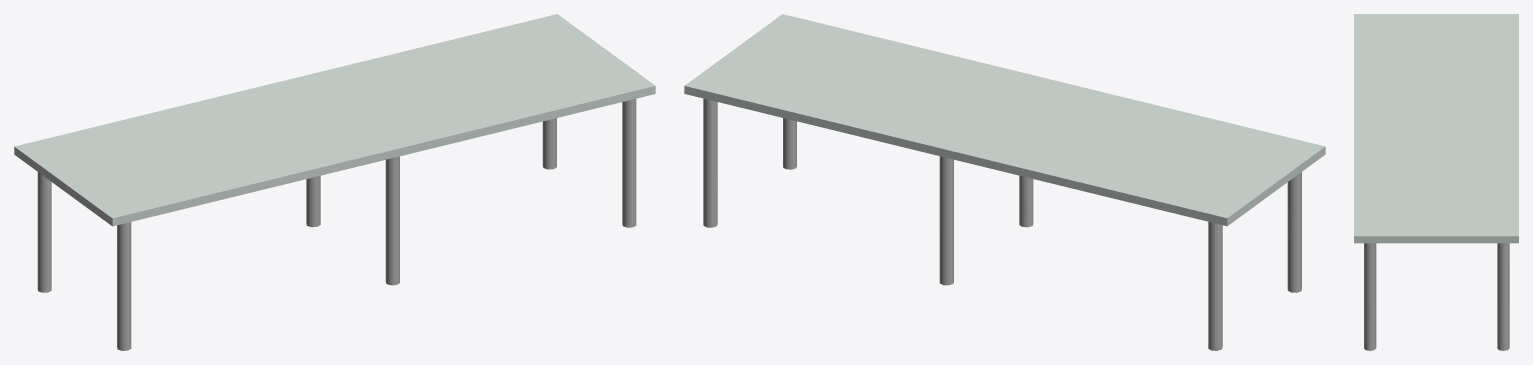
File: SM_Table_02.fbx
3 views of the same model, side by side, from view 1: azimuth 30°, elevation 25°; view 2: azimuth 150°, elevation 25°; view 3: azimuth 270°, elevation 25° (orthographic). The views are drawn at different scales.
Parts seen in each view (by area): view 1: SM_Table_02; view 2: SM_Table_02; view 3: SM_Table_02.
Part boxes in pixels (x1,y1,x2,y2): SM_Table_02: (14, 14, 655, 350); SM_Table_02: (684, 14, 1325, 350); SM_Table_02: (1354, 14, 1518, 350).
Size of the model in its own units: 285 by 71.02 by 89.26.
